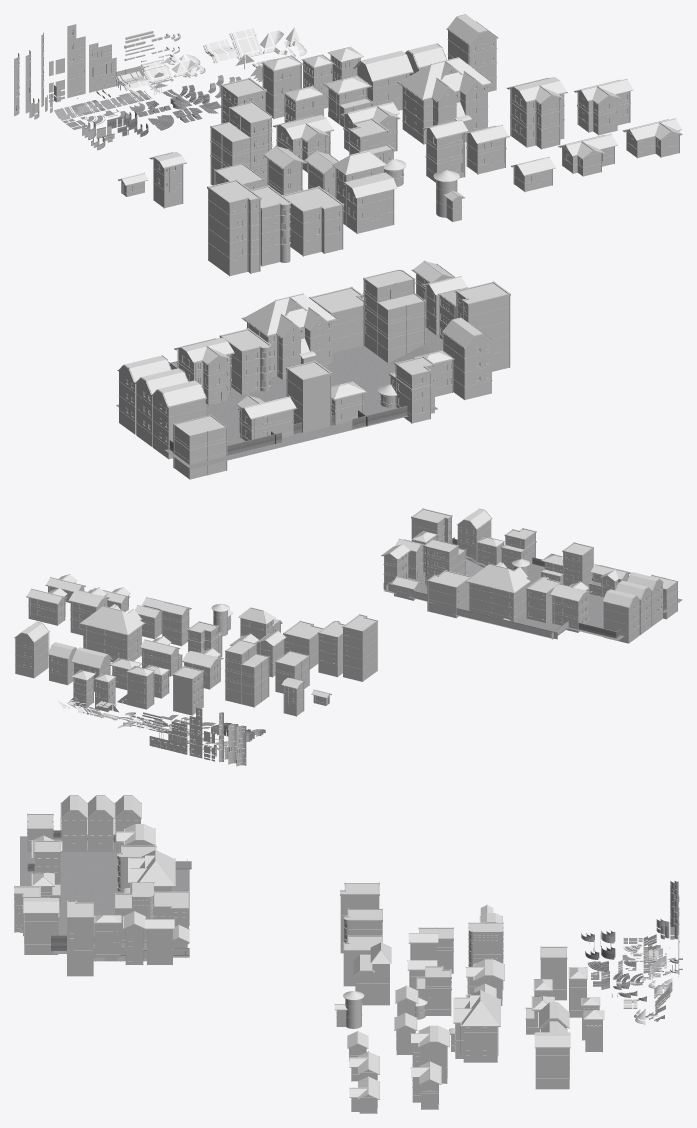
File: ModularBrickHouses.fbx
3 renders of one model, top to bottom at view 1: azimuth 30°, elevation 25°; view 2: azimuth 150°, elevation 25°; view 3: azimuth 270°, elevation 25°, orthographic. The views are drawn at different scales.
Visible parts, largest first — view 1: TestFloor, Building_23, Building_23.001, Building_7.001, Building_2, Building_11, Building_7, Building_27, Building_6, Building_28.001, Building_2.001, Building_5.001 (+38 smaller); view 2: Building_23.001, Building_23, Building_7, Building_2, TestFloor, Building_6.001, Building_28, Building_28.003, Building_27.001, Fence_A_2m.047, Building_9, Building_7.001 (+37 smaller); view 3: TestFloor, Building_23, Building_28, Building_2.001, Building_11, Building_28.001, Building_13, Building_23.001, Building_27, Building_28.002, Building_7, Building_28.004 (+32 smaller).
Boxes of the visible parts, x1,y1,x2,y2 form: TestFloor: [116, 328, 443, 469]; Building_23: [397, 57, 493, 144]; Building_23.001: [241, 293, 337, 379]; Building_7.001: [363, 269, 425, 363]; Building_2: [207, 179, 261, 276]; Building_11: [332, 150, 397, 233]; Building_7: [210, 101, 272, 186]; Building_27: [506, 77, 567, 149]; Building_6: [282, 186, 343, 256]; Building_28.001: [441, 317, 493, 399]; Building_2.001: [455, 281, 510, 371]; Building_5.001: [173, 414, 227, 479]; Building_23.001: [465, 562, 531, 621]; Building_23: [79, 604, 145, 662]; Building_7: [225, 640, 269, 707]; Building_2: [342, 614, 377, 681]; TestFloor: [384, 556, 682, 640]; Building_6.001: [427, 570, 471, 618]; Building_28: [14, 621, 49, 678]; Building_28.003: [602, 589, 640, 643]; Building_27.001: [550, 581, 591, 632]; Fence_A_2m.047: [383, 537, 665, 639]; Building_9: [172, 665, 204, 715]; Building_7.001: [425, 539, 466, 586]; TestFloor: [20, 836, 189, 961]; Building_23: [449, 989, 500, 1062]; Building_28: [534, 1032, 570, 1089]; Building_2.001: [66, 900, 93, 976]; Building_11: [353, 942, 391, 1005]; Building_28.001: [23, 898, 59, 954]; Building_13: [415, 966, 451, 1019]; Building_23.001: [113, 849, 175, 916]; Building_27: [410, 1025, 449, 1083]; Building_28.002: [87, 795, 114, 851]; Building_7: [468, 922, 503, 989]; Building_28.004: [60, 795, 87, 851].
Size of the model in its own units: 153 by 18 by 158.
